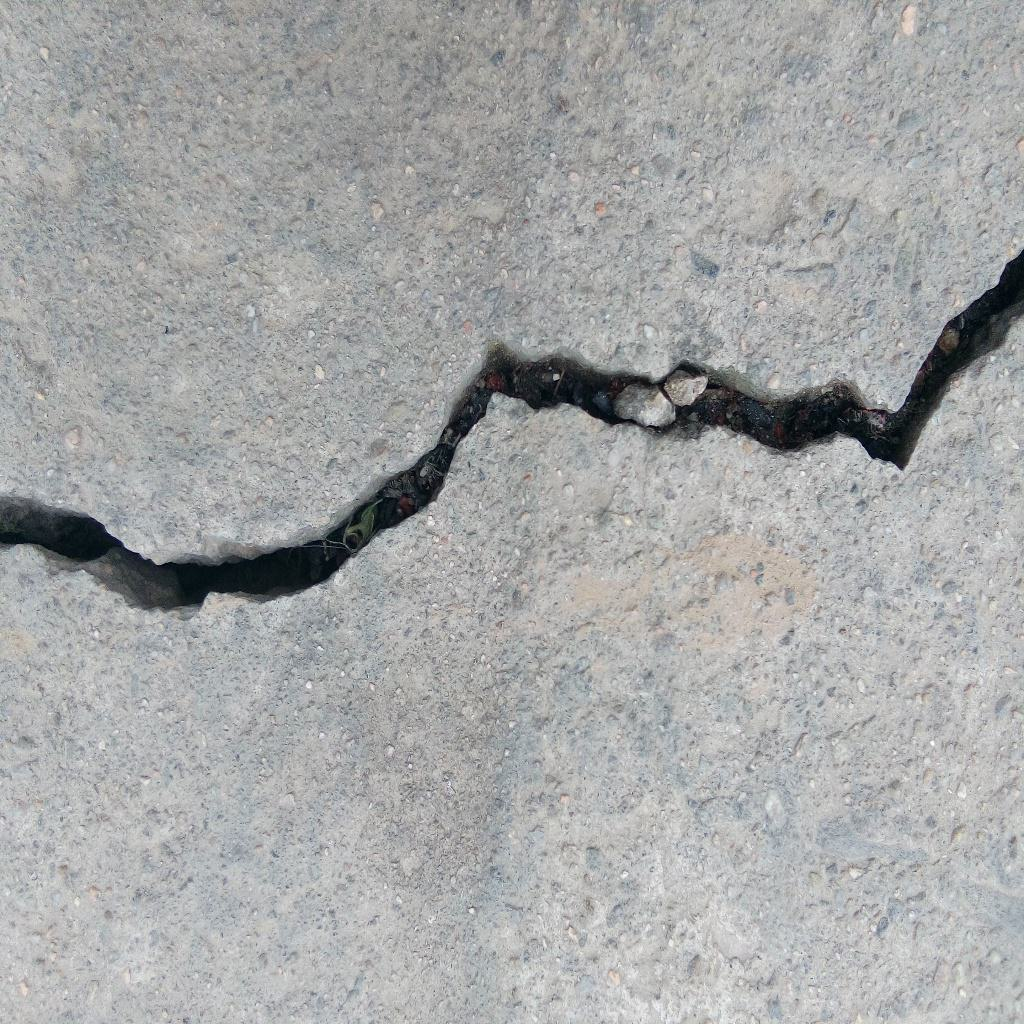Crack: (1, 246, 1024, 614)
